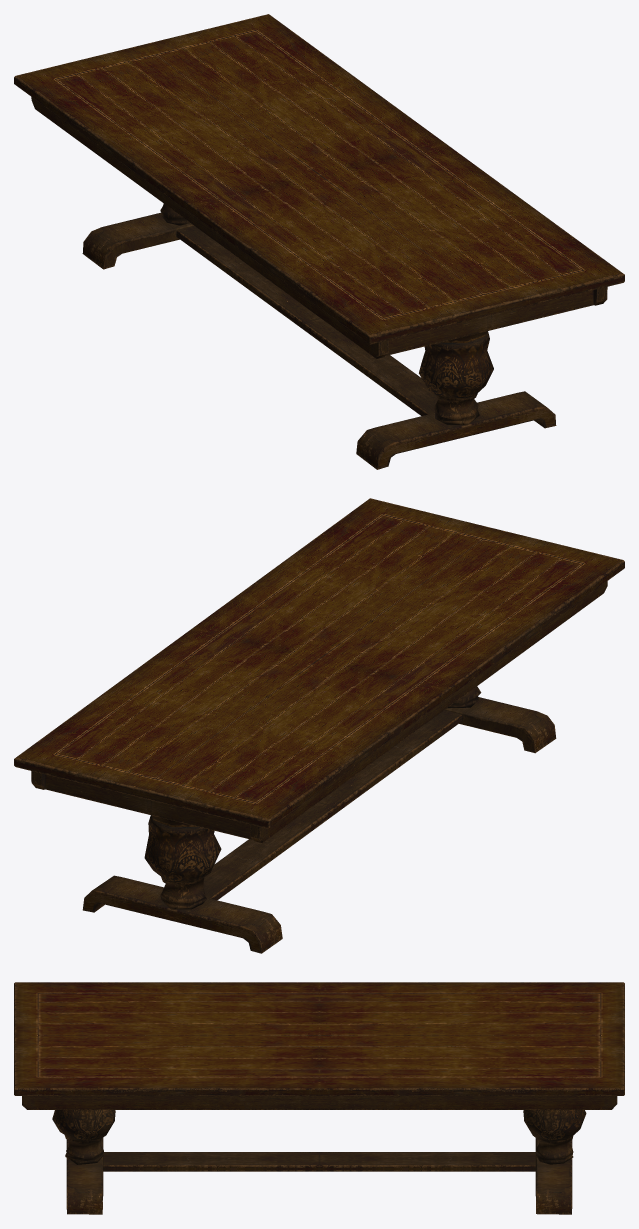
File: SM_Dining_Table_D1.FBX
The picture shows the model from 3 angles, top to bottom: view 1: azimuth 30°, elevation 25°; view 2: azimuth 150°, elevation 25°; view 3: azimuth 270°, elevation 25°; orthographic projection. The views are drawn at different scales.
Parts seen in each view (by area): view 1: SM_Dining_Table_D1; view 2: SM_Dining_Table_D1; view 3: SM_Dining_Table_D1.
Part boxes in pixels (x1,y1,x2,y2): SM_Dining_Table_D1: [14, 14, 624, 469]; SM_Dining_Table_D1: [14, 498, 624, 953]; SM_Dining_Table_D1: [14, 982, 624, 1214].
Size of the model in its own units: 130 by 314 by 80.56.
